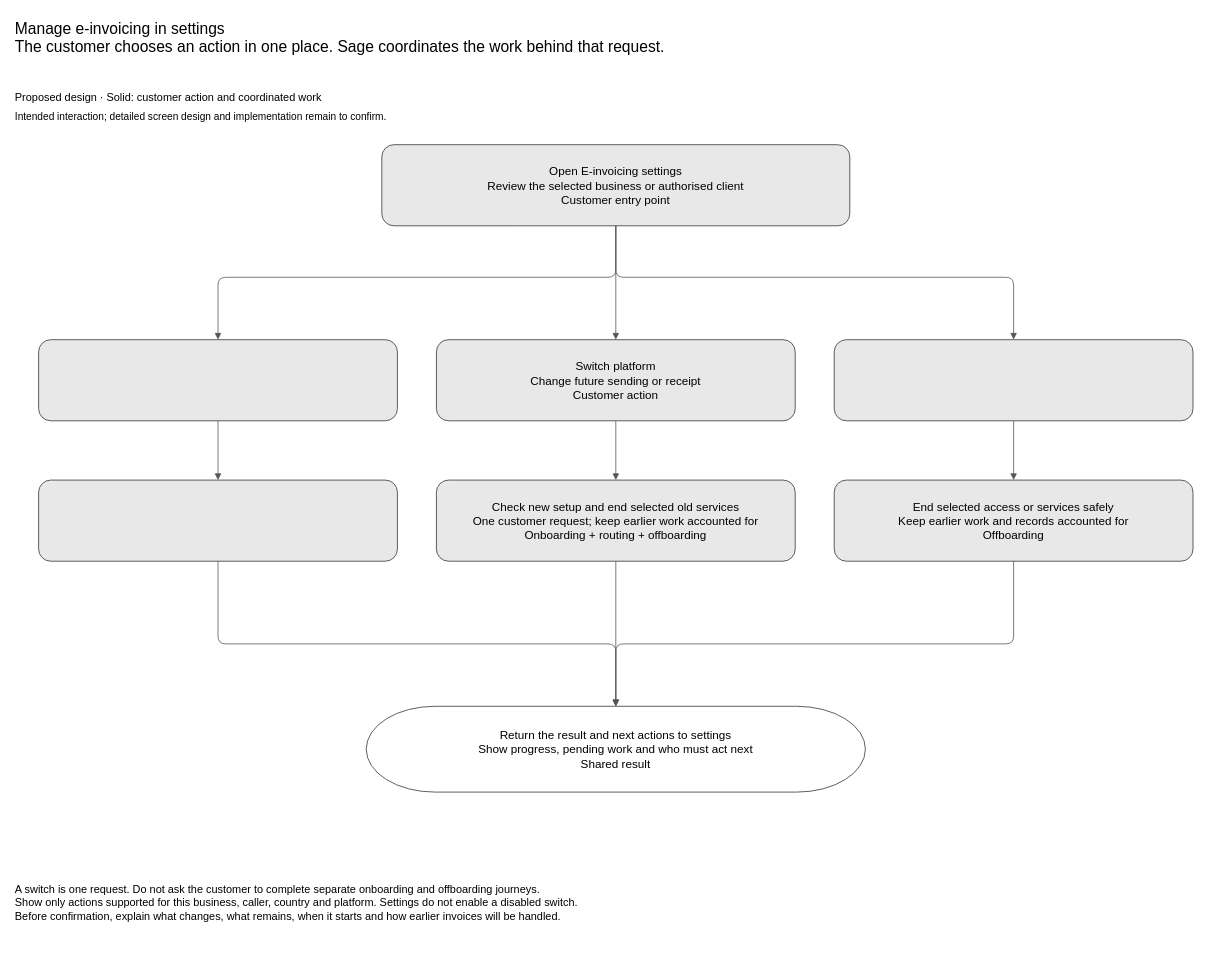
The diagram is 1231 pixels wide and 966 high, and some of its shapes have lost their labels. The centre of each missing label's shape, as x and y in pixels:
"Connect or add a platform Keep existing valid setup Customer action" belongs at point (217, 380).
"Disconnect or stop a service No new platform is assumed Customer action" belongs at point (1013, 380).
"Set up and check Sage access Reuse a valid account and connection Onboarding" belongs at point (217, 520).
